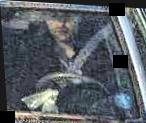seatbelt: (68, 22, 113, 72)
